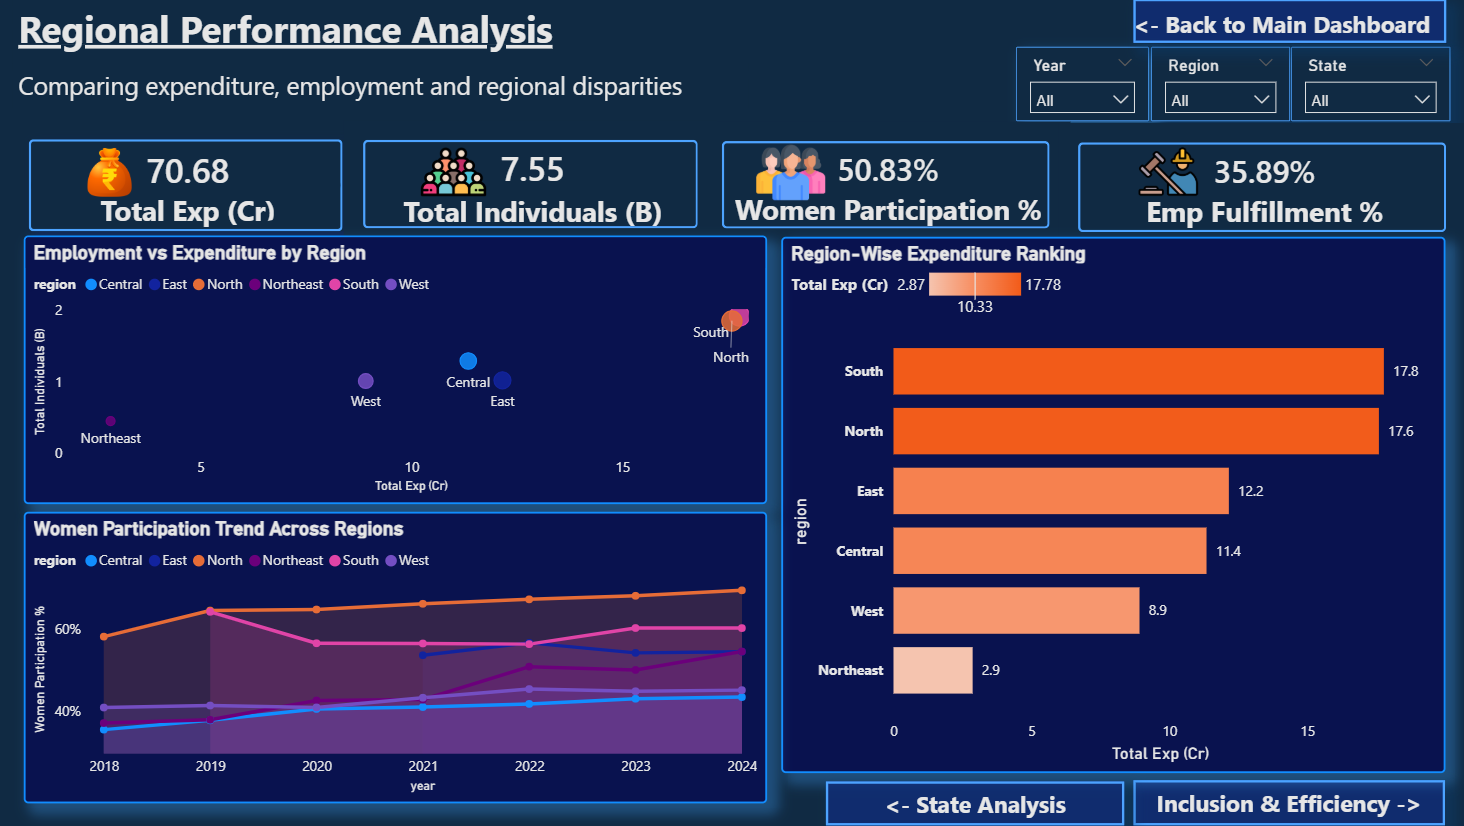

Layout of this report page (visuals, bound fields, positions):
{"tool":"powerbi","page":{"name":"Regional Analysis","canvas":[1280,720],"ordinal":2},"visuals":[{"type":"slicer","fields":{"Values":["mgnrega_state_year_dataset.year"]},"box":[887.9,41.9,115.3,65],"z":0},{"type":"slicer","fields":{"Values":["mgnrega_state_year_dataset.region"]},"box":[1005.4,41.9,120.6,65],"z":1000},{"type":"slicer","fields":{"Values":["mgnrega_state_year_dataset.state_name"]},"box":[1127,41.9,138.4,65],"z":2000},{"type":"actionButton","box":[989.6,679.3,272.6,40.9],"z":3000},{"type":"actionButton","box":[989.6,0,273.6,39.8],"z":4000},{"type":"textbox","box":[15.3,0,550,56.9],"z":5000},{"type":"textbox","box":[15.3,56.9,640.3,38.9],"z":6000},{"type":"cardVisual","fields":{"Data":["mgnrega_state_year_dataset.Women Participation %"]},"box":[615.1,108.1,319.8,110.5],"z":7000},{"type":"cardVisual","fields":{"Data":["mgnrega_state_year_dataset.Total Exp (Cr)"]},"box":[29.1,123.3,273.3,80.2],"z":8000},{"type":"cardVisual","fields":{"Data":["mgnrega_state_year_dataset.Total Individuals (B)"]},"box":[302.8,106.9,325,111.1],"z":9000},{"type":"cardVisual","fields":{"Data":["mgnrega_state_year_dataset.Employment Fulfillment %"]},"box":[925.5,108.5,354.3,112.8],"z":10000},{"type":"clusteredBarChart","title":"Region-Wise Expenditure Ranking","fields":{"Category":["mgnrega_state_year_dataset.region"],"Y":["mgnrega_state_year_dataset.Total Exp (Cr)"]},"box":[683.7,208.1,577.9,466.3],"z":11000},{"type":"scatterChart","title":"Employment vs Expenditure by Region","fields":{"X":["mgnrega_state_year_dataset.Total Exp (Cr)"],"Y":["mgnrega_state_year_dataset.Total Individuals (B)"],"Size":["mgnrega_state_year_dataset.Total Exp (Cr)"],"Category":["mgnrega_state_year_dataset.region"],"Series":["mgnrega_state_year_dataset.region"]},"box":[25,206.7,646.7,233.3],"z":12000},{"type":"image","box":[80,115,38.3,73.3],"z":13000},{"type":"image","box":[366.7,123.3,65,56.7],"z":14000},{"type":"image","box":[661.7,115,60,73.3],"z":15000},{"type":"image","box":[990,118.3,60,65],"z":16000},{"type":"areaChart","title":"Women Participation Trend Across Regions","fields":{"Category":["mgnrega_state_year_dataset.year"],"Y":["mgnrega_state_year_dataset.Women Participation %"],"Series":["mgnrega_state_year_dataset.region"]},"box":[25,446.7,646.7,253.3],"z":17000},{"type":"actionButton","box":[721.3,680.4,261,39.8],"z":18000}]}

Visuals, with their boxes in screenshot pixels (x1, y1, x2, y2), scaled from the page's 1280x720 canvas onto the 1464x826 screenshot:
slicer - mgnrega_state_year_dataset.year: (1016,48,1147,123)
slicer - mgnrega_state_year_dataset.region: (1150,48,1288,123)
slicer - mgnrega_state_year_dataset.state_name: (1289,48,1447,123)
actionButton: (1132,779,1444,825)
actionButton: (1132,0,1445,46)
textbox: (17,0,647,65)
textbox: (17,65,750,110)
cardVisual - mgnrega_state_year_dataset.Women Participation %: (704,124,1069,251)
cardVisual - mgnrega_state_year_dataset.Total Exp (Cr): (33,141,346,233)
cardVisual - mgnrega_state_year_dataset.Total Individuals (B): (346,123,718,250)
cardVisual - mgnrega_state_year_dataset.Employment Fulfillment %: (1059,124,1463,254)
"Region-Wise Expenditure Ranking" clusteredBarChart: (782,239,1443,774)
"Employment vs Expenditure by Region" scatterChart: (29,237,768,505)
image: (92,132,135,216)
image: (419,141,494,206)
image: (757,132,825,216)
image: (1132,136,1201,210)
"Women Participation Trend Across Regions" areaChart: (29,512,768,803)
actionButton: (825,781,1124,825)
